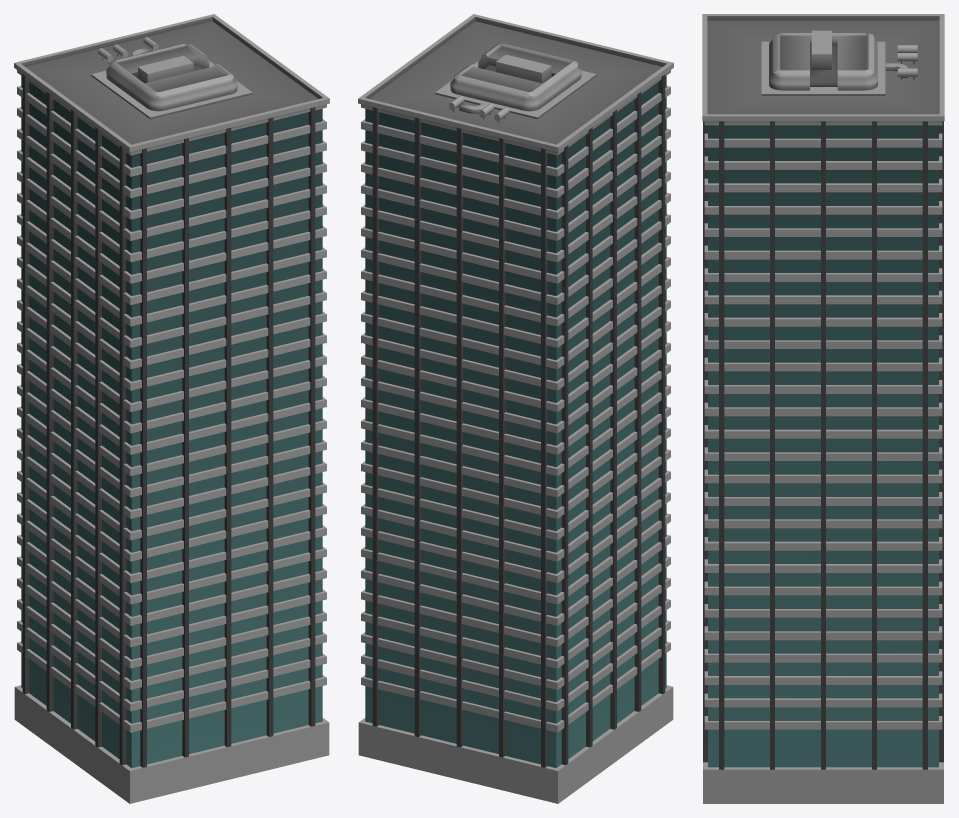
Rendered from buildings-industrial-traditionalskyscraper_v2.glb.
3 renders of one model, left to right at view 1: azimuth 30°, elevation 25°; view 2: azimuth 150°, elevation 25°; view 3: azimuth 270°, elevation 25°, orthographic. The views are drawn at different scales.
Visible parts, largest first — view 1: TraditionalSkyscraper_v2_base, TraditionalSkyscraper_v2_windowRefl; view 2: TraditionalSkyscraper_v2_base, TraditionalSkyscraper_v2_windowRefl; view 3: TraditionalSkyscraper_v2_base, TraditionalSkyscraper_v2_windowRefl.
Boxes of the visible parts, x1,y1,x2,y2 form: TraditionalSkyscraper_v2_base: (14, 14, 329, 803); TraditionalSkyscraper_v2_windowRefl: (21, 76, 322, 767); TraditionalSkyscraper_v2_base: (358, 14, 673, 803); TraditionalSkyscraper_v2_windowRefl: (365, 76, 666, 767); TraditionalSkyscraper_v2_base: (702, 14, 944, 803); TraditionalSkyscraper_v2_windowRefl: (708, 125, 938, 767).
Bounding box in the file's own units: 21.03 × 67.7 × 21.03.
